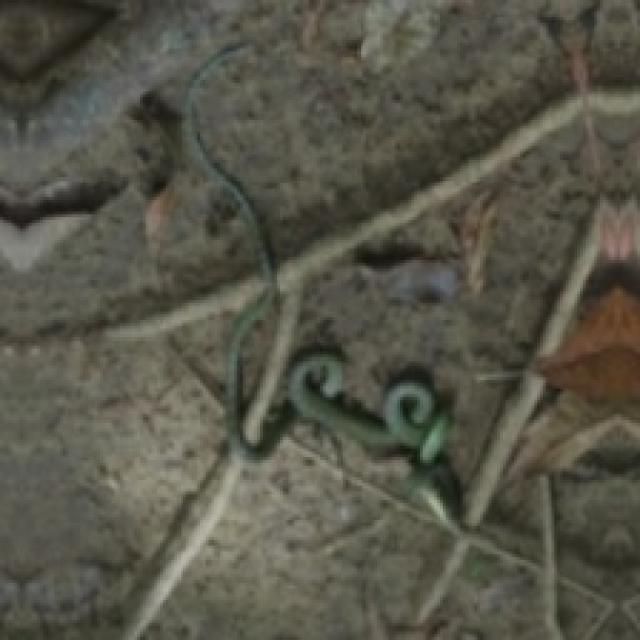paradise tree snake: (0, 57, 260, 637), (260, 54, 477, 254)
